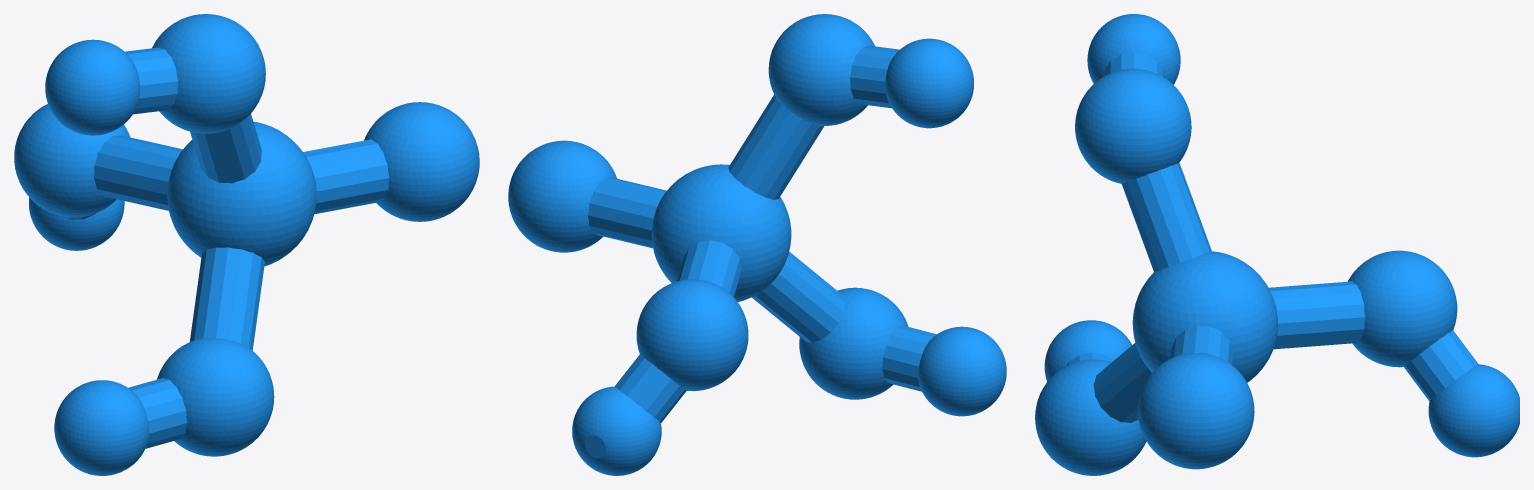
Rendered from 1004-bas-color-print_mr_NIH3D.glb.
3 renders of one model, left to right at view 1: azimuth 30°, elevation 25°; view 2: azimuth 150°, elevation 25°; view 3: azimuth 270°, elevation 25°, orthographic. The views are drawn at different scales.
Visible parts, largest first — view 1: 1004-bas-color-print_NIH3D_mr; view 2: 1004-bas-color-print_NIH3D_mr; view 3: 1004-bas-color-print_NIH3D_mr.
Boxes of the visible parts, x1,y1,x2,y2 form: 1004-bas-color-print_NIH3D_mr: (14, 14, 479, 475); 1004-bas-color-print_NIH3D_mr: (508, 14, 1006, 475); 1004-bas-color-print_NIH3D_mr: (1035, 14, 1519, 475).
Bounding box in the file's own units: 4.03 × 3.44 × 3.74.
